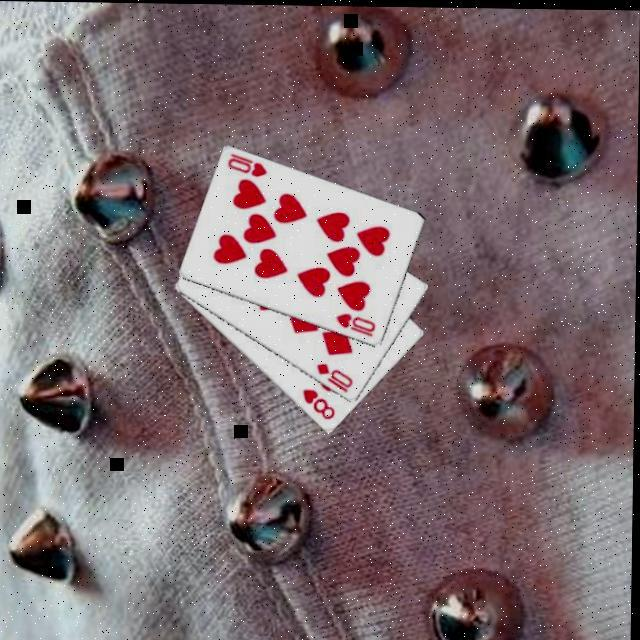10D: (313, 357, 357, 393)
10H: (333, 306, 379, 337), (224, 148, 270, 178)
8H: (300, 384, 338, 420)
